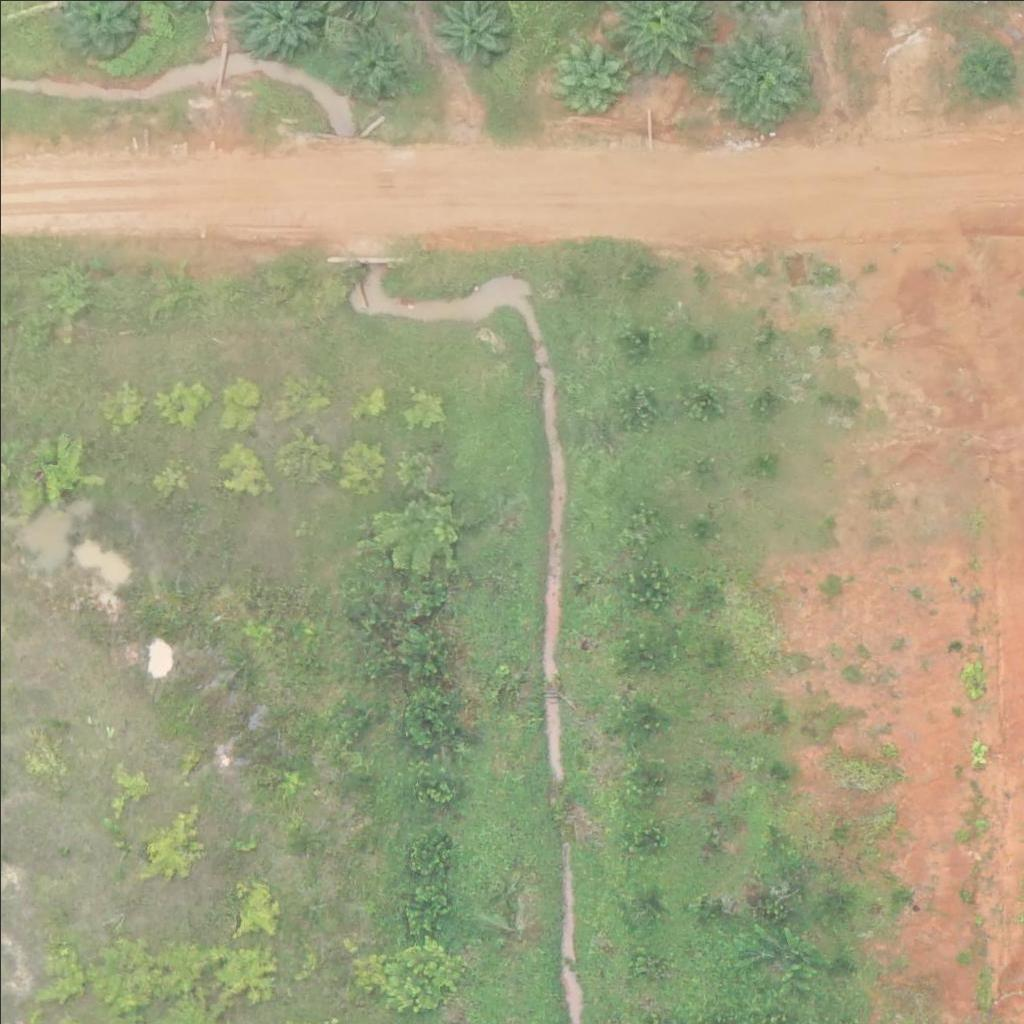Kelapa_Sawit: (708, 25, 808, 126), (538, 29, 625, 117), (338, 30, 400, 93)
